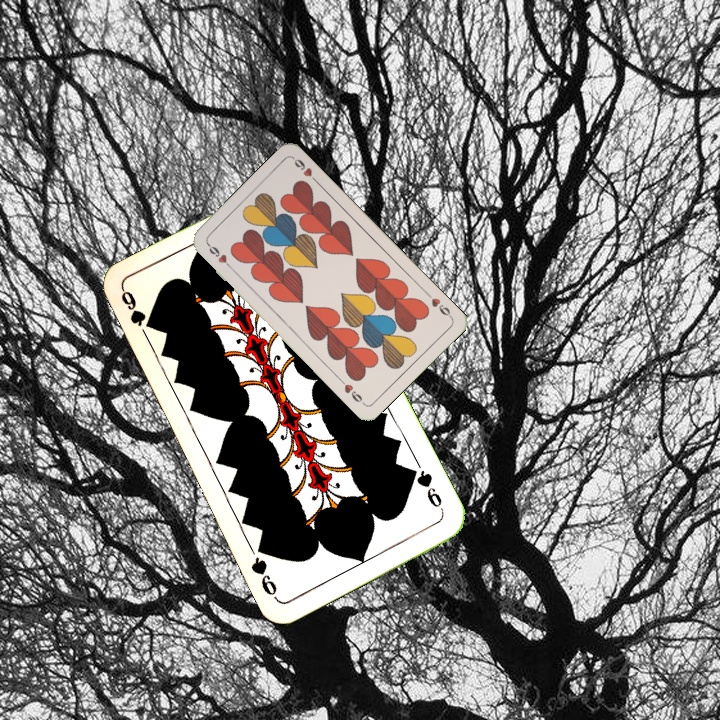G9: (406, 464, 447, 515), (117, 286, 151, 342)
H9: (422, 288, 454, 321), (203, 239, 235, 272)
